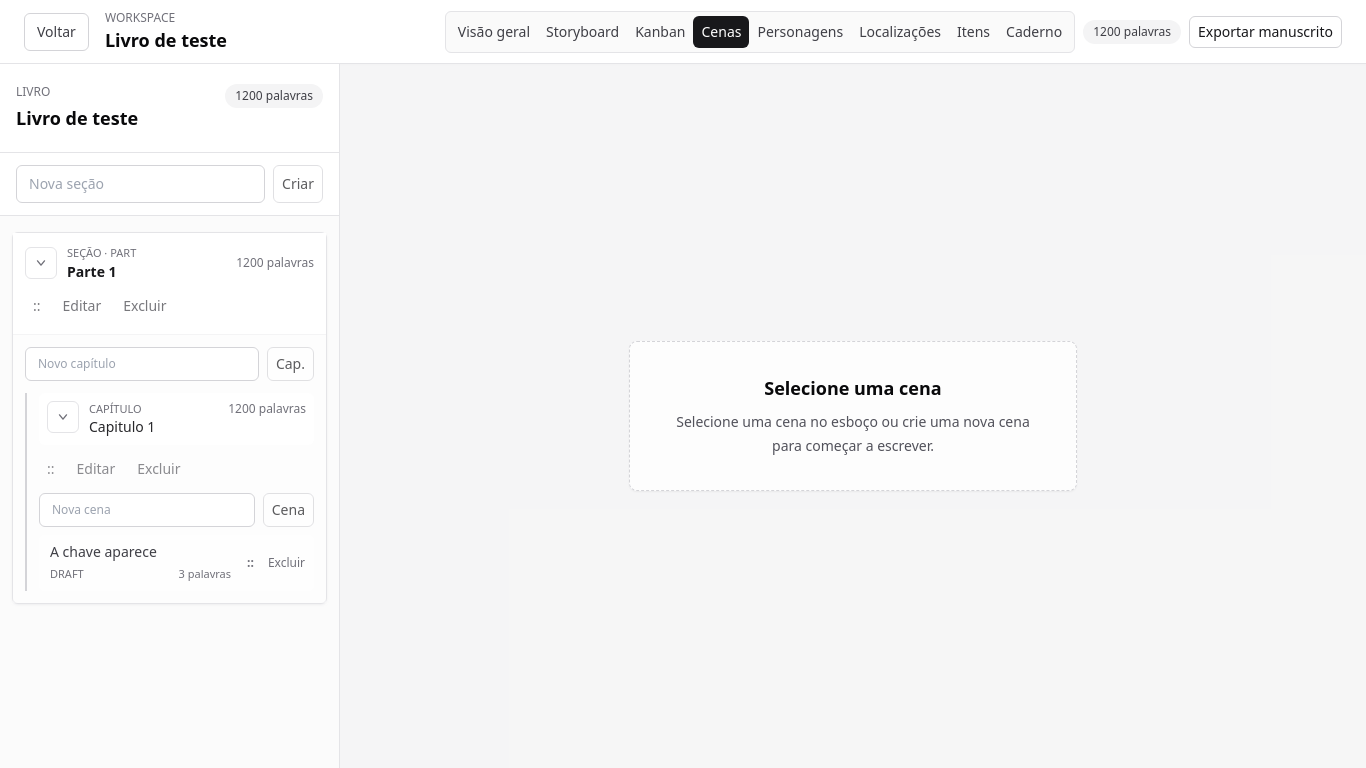
Scenario: BookWorkspace focus mode › restaura foco via localStorage apenas depois que uma cena e selecionada
Expected: the text "Livro" is shown, [16,83,50,100]
Click the button "A chave aparece DRAFT 3 palavras" at (140, 563), box [40,536,241,590]
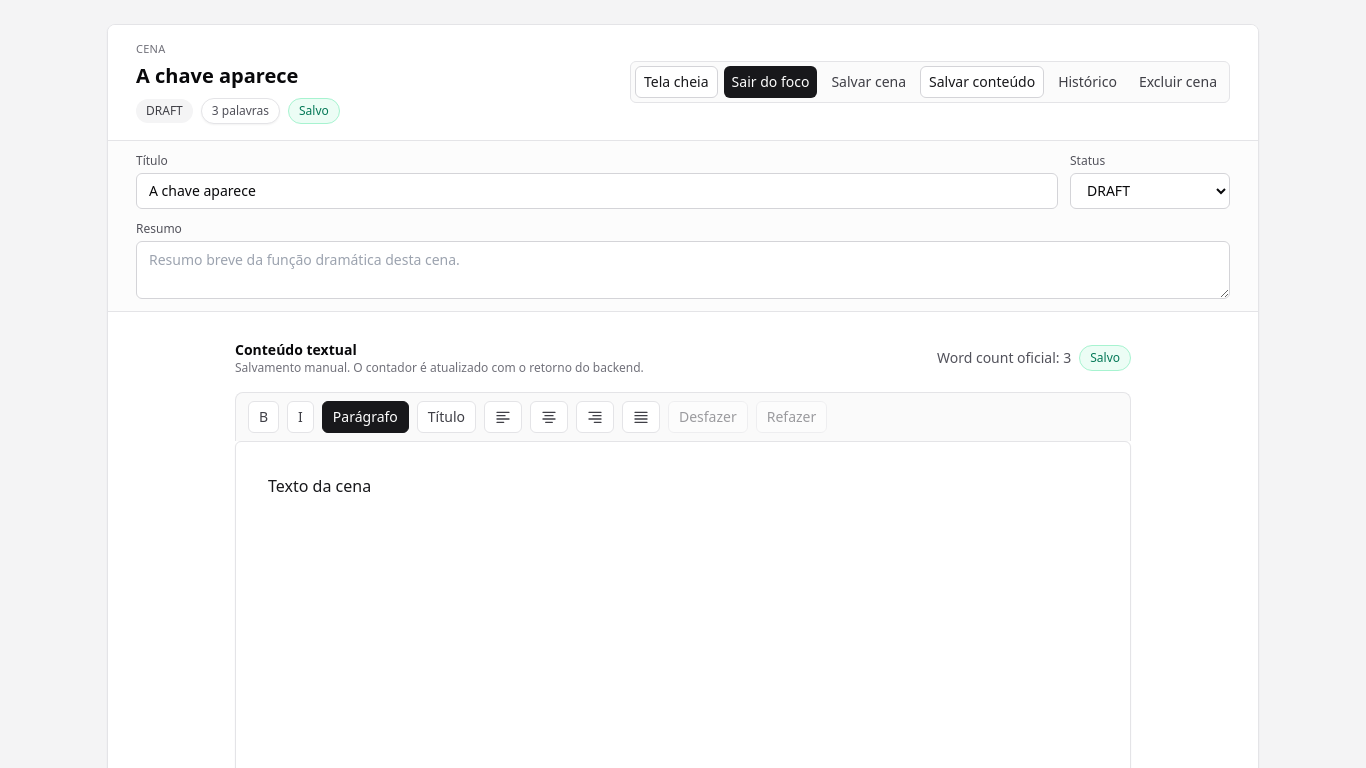
Now the heading "Livro" is gone
Now the heading "A chave aparece" is shown, box [136,62,298,88]
Now the button "Sair do foco" is shown, box [724,66,817,98]
